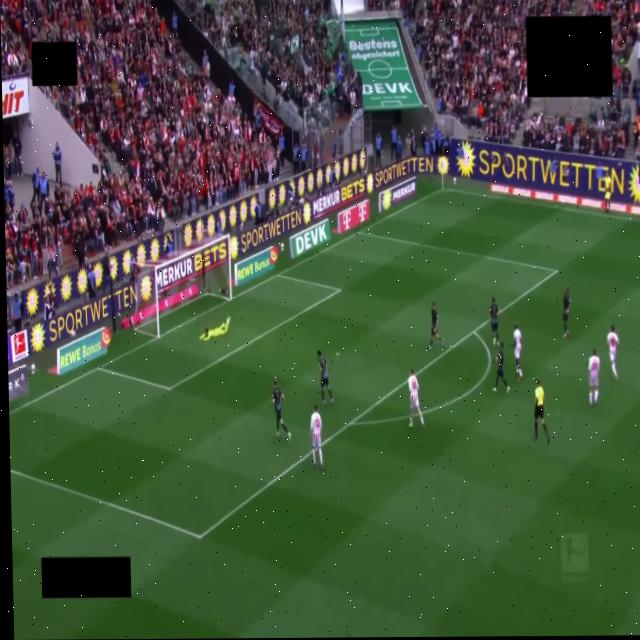player: (273, 380, 291, 439), (408, 369, 424, 427), (493, 342, 510, 392), (318, 351, 333, 405), (310, 406, 322, 469), (200, 318, 230, 341), (588, 349, 600, 404), (607, 325, 619, 379), (429, 302, 443, 348), (513, 324, 522, 379), (490, 297, 499, 345), (563, 287, 571, 338), (639, 398, 640, 458)
referee: (534, 380, 549, 443)
